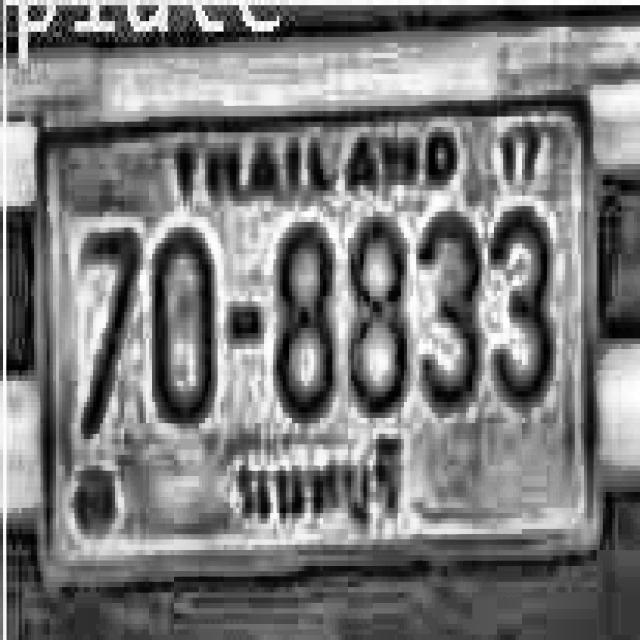license-plate: (33, 95, 602, 580)
